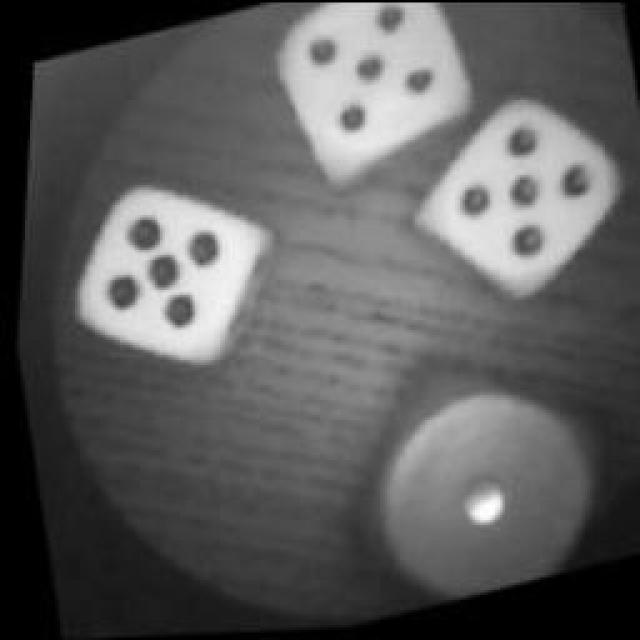dice_1: (320, 332, 640, 626)
dice_5: (387, 78, 640, 323), (38, 156, 292, 396), (244, 0, 488, 198)
